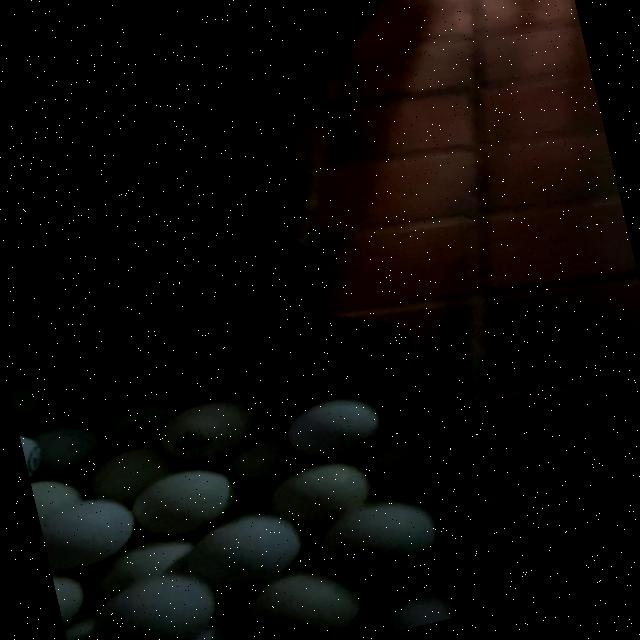ping-pong-ball: (63, 550, 246, 640), (217, 547, 388, 640), (306, 486, 448, 587), (174, 499, 310, 602), (264, 381, 400, 481), (117, 456, 250, 552), (34, 484, 148, 584), (148, 386, 276, 474)
